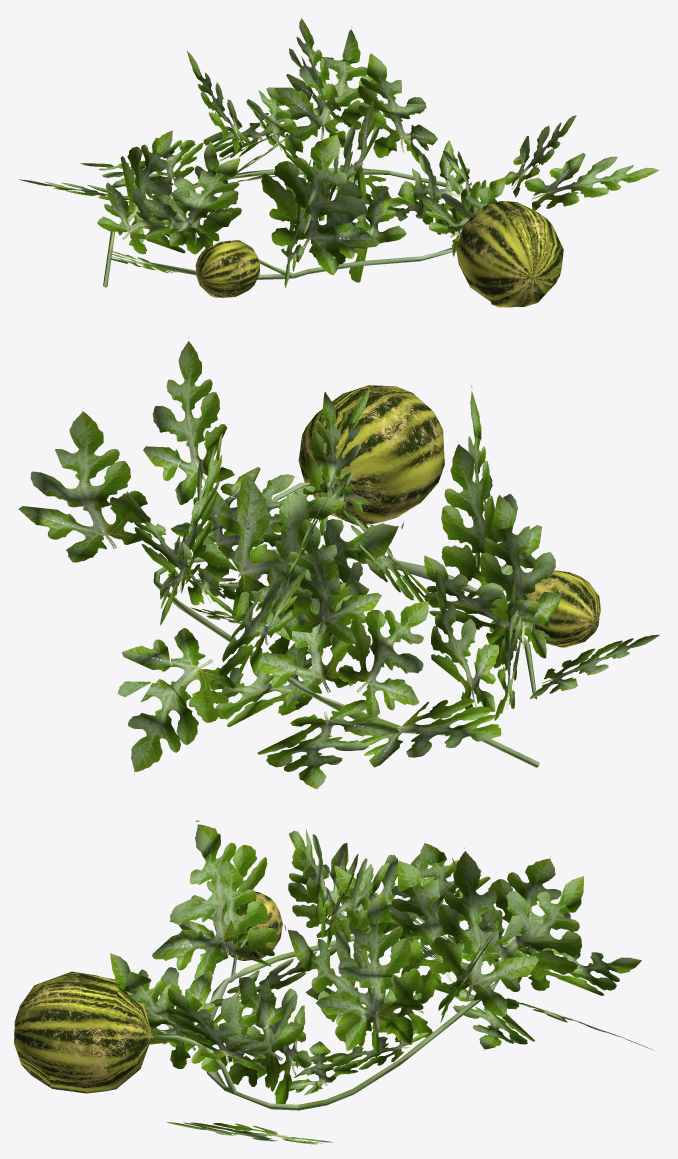
The model's file is watermelon_bush.glb.
3 renders of one model, top to bottom at view 1: azimuth 30°, elevation 25°; view 2: azimuth 150°, elevation 25°; view 3: azimuth 270°, elevation 25°, orthographic. The views are drawn at different scales.
Visible parts, largest first — view 1: BUSH_Material.006_0, WATERMELON.001_Material.008_0, WATERMELON_Material.008_0; view 2: BUSH_Material.006_0, WATERMELON.001_Material.008_0, WATERMELON_Material.008_0; view 3: BUSH_Material.006_0, WATERMELON.001_Material.008_0, WATERMELON_Material.008_0.
Boxes of the visible parts, x1=… form: BUSH_Material.006_0: x1=19, y1=18, x2=659, y2=287; WATERMELON.001_Material.008_0: x1=456, y1=201, x2=563, y2=307; WATERMELON_Material.008_0: x1=195, y1=240, x2=259, y2=297; BUSH_Material.006_0: x1=18, y1=337, x2=659, y2=789; WATERMELON.001_Material.008_0: x1=298, y1=385, x2=444, y2=525; WATERMELON_Material.008_0: x1=524, y1=570, x2=600, y2=647; BUSH_Material.006_0: x1=108, y1=820, x2=656, y2=1144; WATERMELON.001_Material.008_0: x1=14, y1=971, x2=153, y2=1093; WATERMELON_Material.008_0: x1=214, y1=891, x2=282, y2=960.
Size of the model in its own units: 1.5 by 0.5867 by 1.43.
Materials: 2 (2 with a texture image).
